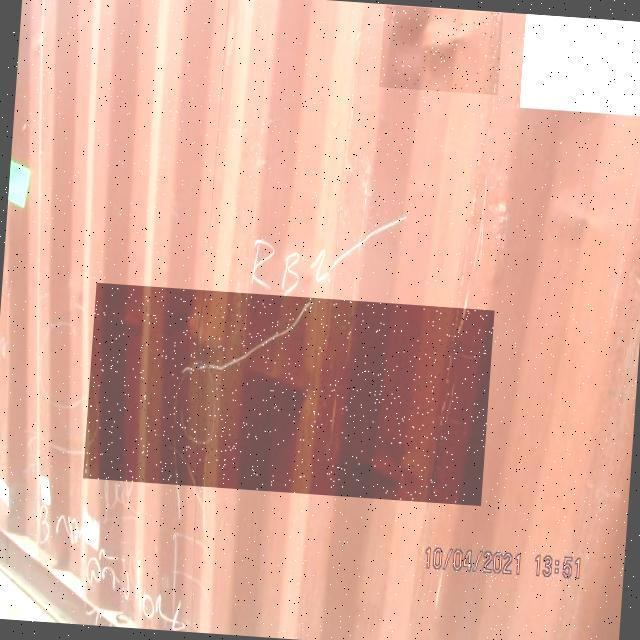Dent: (82, 283, 494, 506)
Minor-Dent: (379, 5, 503, 95)
